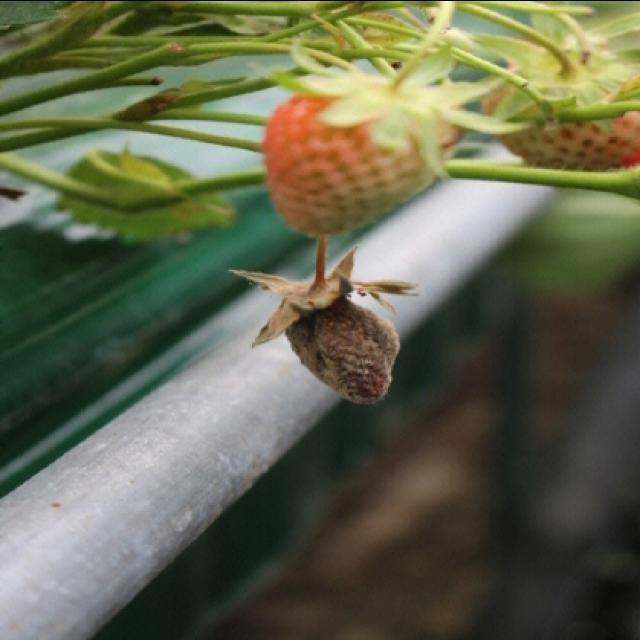Gray Mold: (226, 233, 421, 406)
